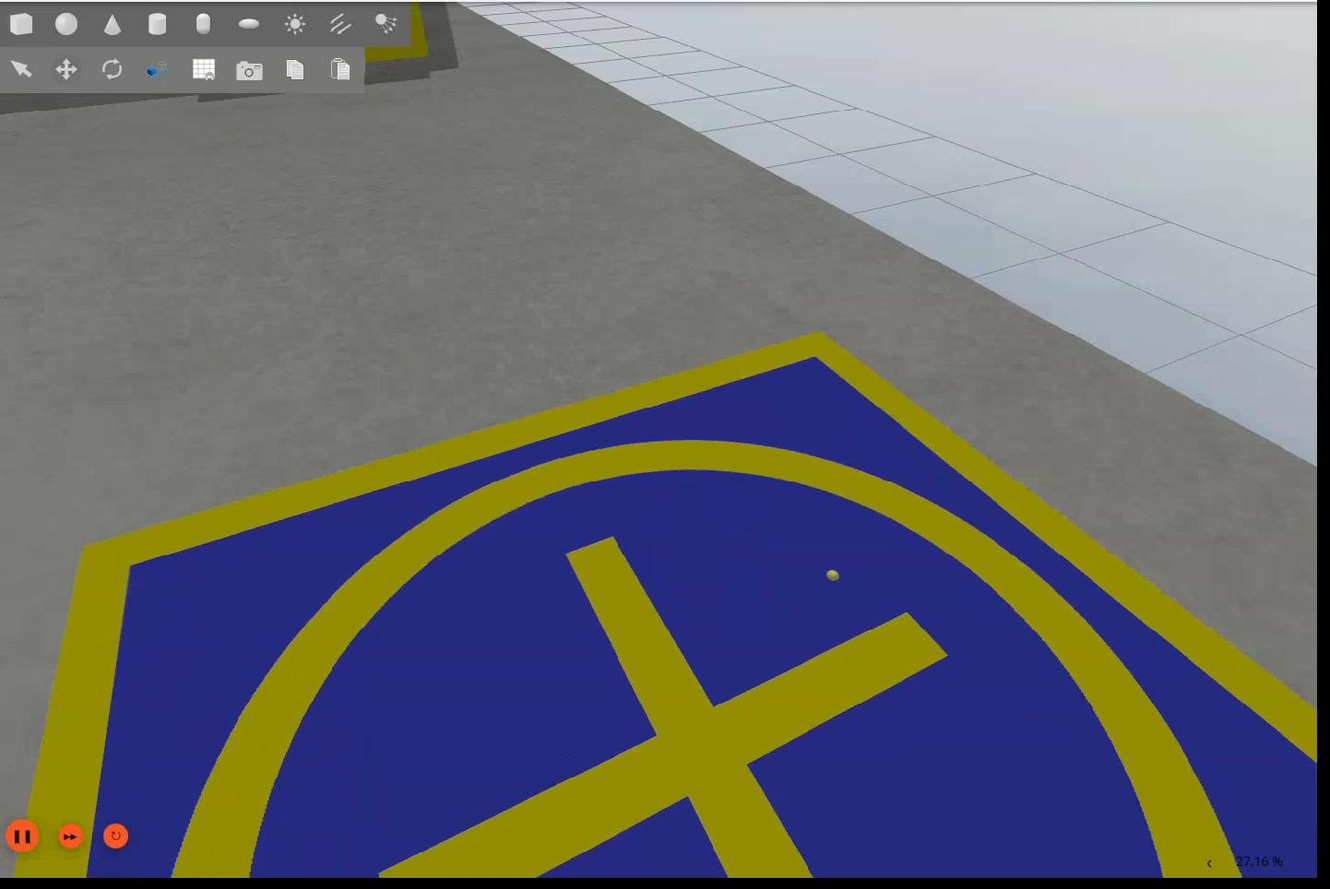small_base: (16, 330, 1320, 881)
